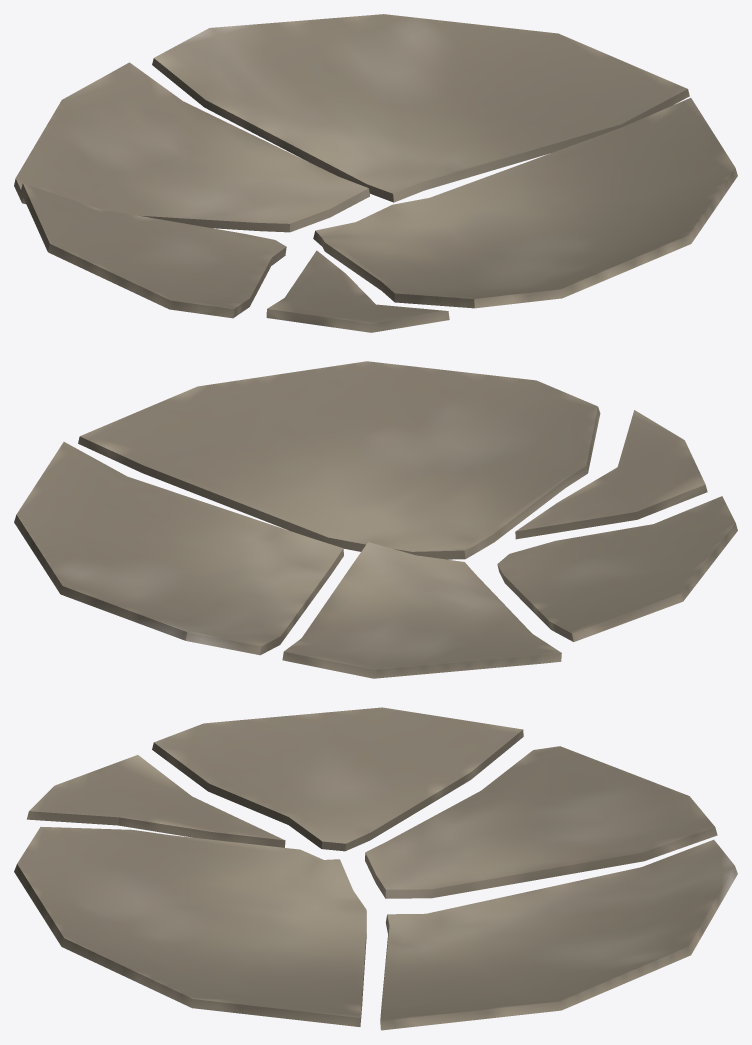
File: разбитая тарелка 1.fbx
The picture shows the model from 3 angles, top to bottom: view 1: azimuth 30°, elevation 25°; view 2: azimuth 150°, elevation 25°; view 3: azimuth 270°, elevation 25°; orthographic projection. The views are drawn at different scales.
Visible parts, largest first — view 1: тарелка большая.001_cell.003; view 2: тарелка большая.001_cell.003; view 3: тарелка большая.001_cell.003.
Part boxes in pixels (bbox=[...]): тарелка большая.001_cell.003: bbox=[14, 14, 737, 332]; тарелка большая.001_cell.003: bbox=[14, 361, 737, 678]; тарелка большая.001_cell.003: bbox=[14, 707, 737, 1030].
Size of the model in its own units: 31.76 by 2.55 by 30.77.
Materials: 1 (1 with a texture image).
